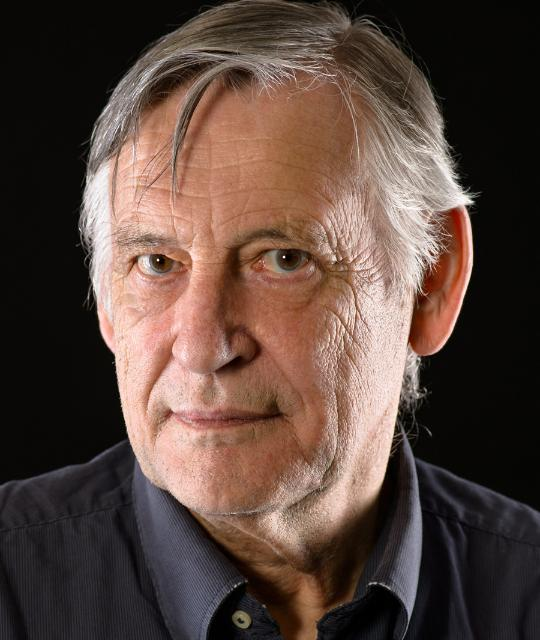crows_feet: (319, 238, 356, 282)
forehead: (232, 148, 320, 182), (136, 176, 208, 204), (234, 200, 302, 220)
frown_line: (188, 218, 224, 266)
gummy_smile: (143, 336, 175, 402), (256, 338, 295, 390)
masseter: (330, 290, 366, 360), (325, 384, 345, 481)
